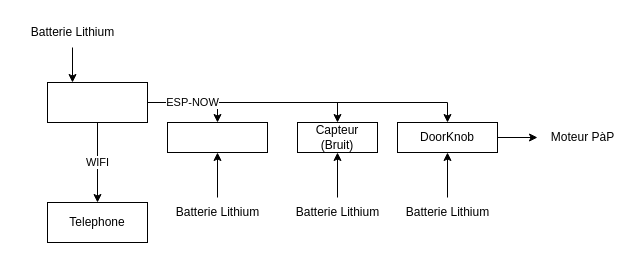
Some shapes in this 644 by 260 pixel diagram are drawn without their labels. Each missing label, with the box of its shape:
Capteur (Mouvement): (166, 122, 268, 152)
Server/Panneau: (46, 82, 148, 122)
